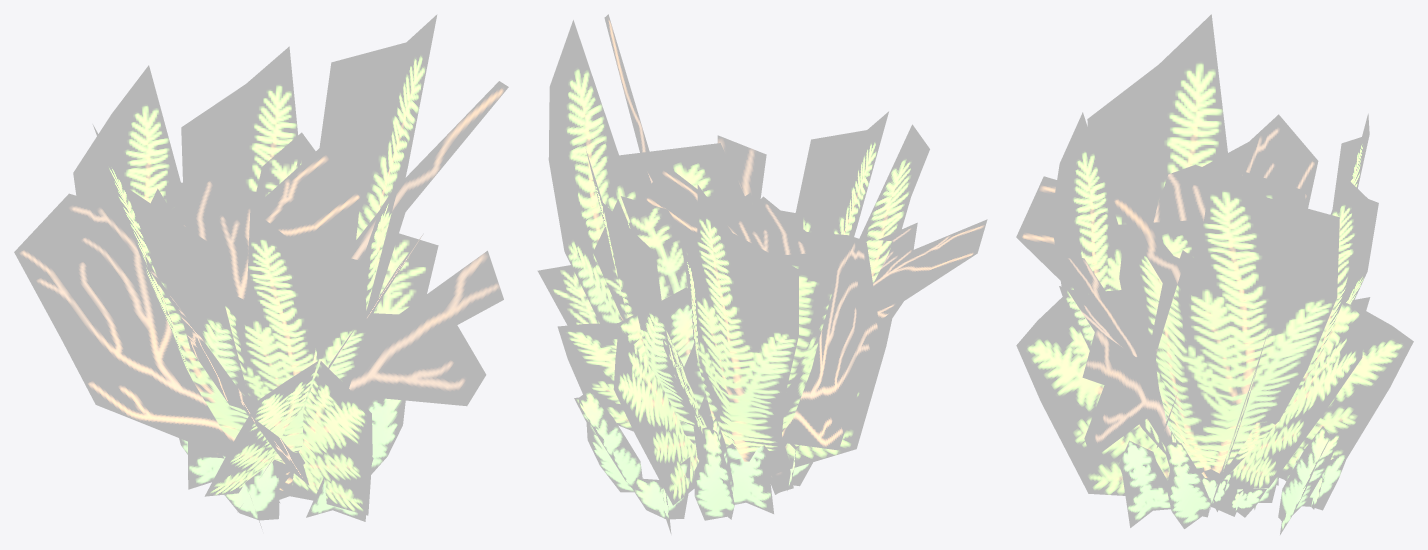
Rendered from SM_ShrubB.fbx.
The picture shows the model from 3 angles, left to right: view 1: azimuth 30°, elevation 25°; view 2: azimuth 150°, elevation 25°; view 3: azimuth 270°, elevation 25°; orthographic projection. The views are drawn at different scales.
Parts seen in each view (by area): view 1: SM_ShrubB; view 2: SM_ShrubB; view 3: SM_ShrubB.
Boxes of the visible parts, left/top/right/bottom form: SM_ShrubB: left=14, top=14, right=508, bottom=529; SM_ShrubB: left=537, top=14, right=987, bottom=534; SM_ShrubB: left=1016, top=14, right=1413, bottom=534.
Size of the model in its own units: 78.11 by 72.39 by 86.75.
